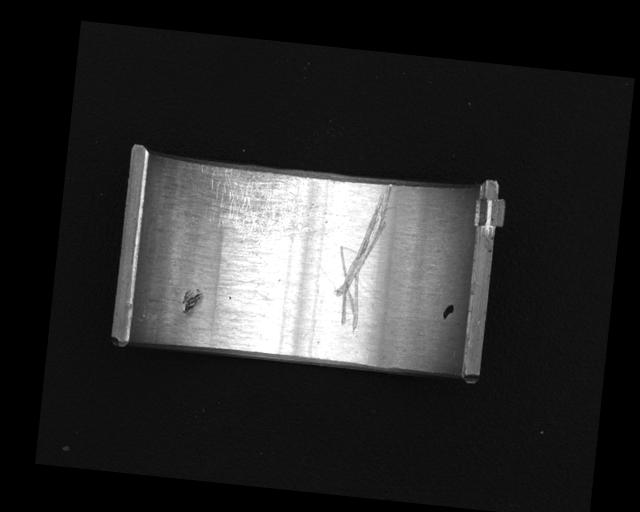blot: (440, 302, 455, 321)
bruise: (179, 286, 203, 318)
nick: (330, 178, 395, 334)
scratch: (195, 164, 331, 246)
